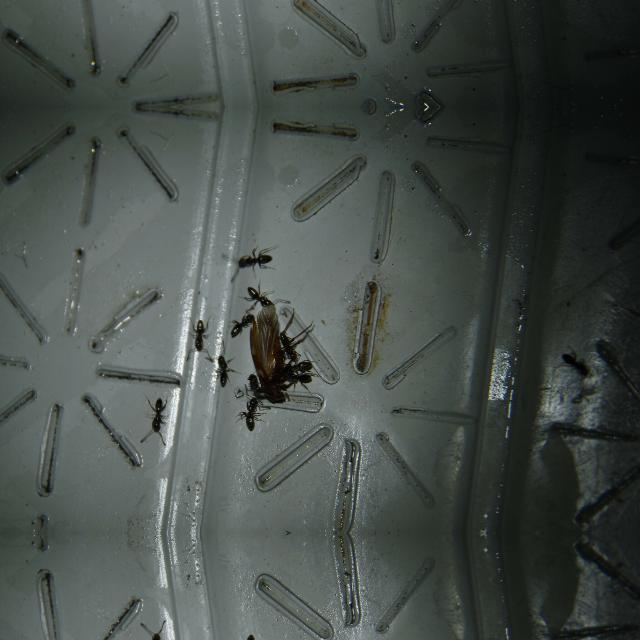Tapinoma: (230, 245, 278, 273), (143, 394, 169, 438), (242, 282, 282, 308), (214, 353, 238, 393), (276, 352, 314, 376), (223, 312, 254, 341), (274, 325, 300, 359), (238, 397, 262, 431), (190, 317, 210, 355), (281, 374, 311, 390), (246, 372, 264, 394), (143, 626, 169, 640)
